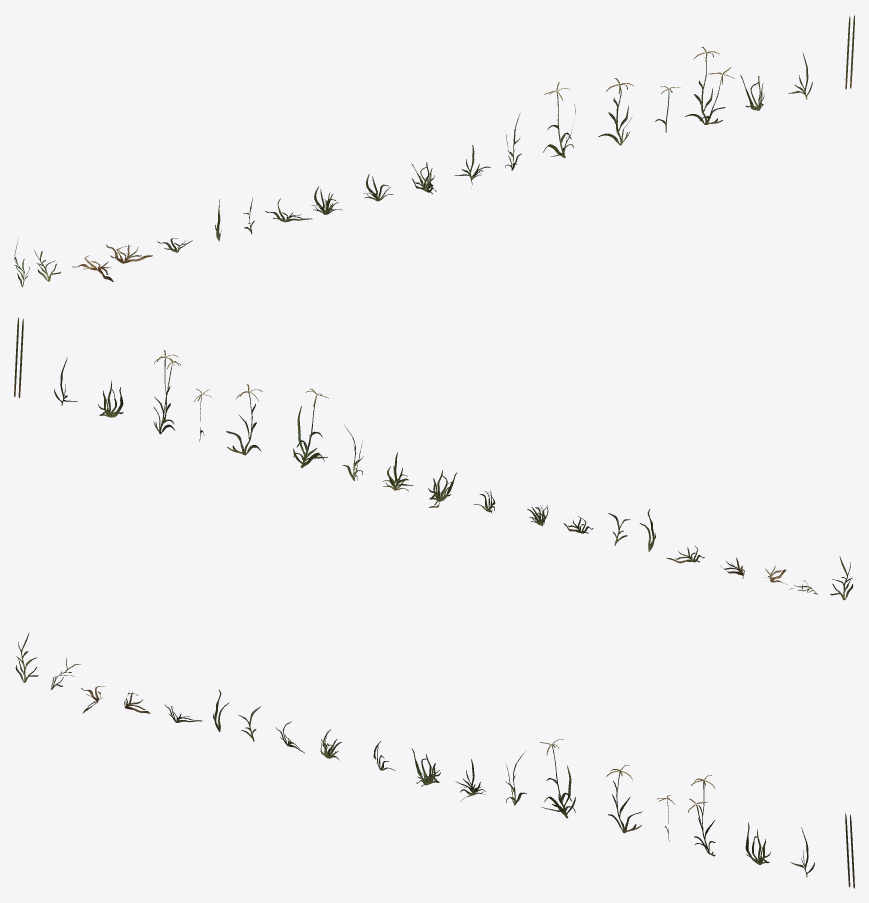
The model's file is grass_bermuda_01.glb.
The picture shows the model from 3 angles, top to bottom: view 1: azimuth 30°, elevation 25°; view 2: azimuth 150°, elevation 25°; view 3: azimuth 330°, elevation 25°; orthographic projection.
Visible parts, largest first — view 1: grass_bermuda_01_seedling_d; view 2: grass_bermuda_01_seedling_a; view 3: grass_bermuda_01_seedling_a.
Boxes of the visible parts, bbox=[...] form: grass_bermuda_01_seedling_d: bbox=[685, 47, 734, 124]; grass_bermuda_01_seedling_a: bbox=[293, 388, 328, 468]; grass_bermuda_01_seedling_a: bbox=[539, 739, 575, 818].
Bounding box in the file's own units: 1.69 × 0.1583 × 0.1422.
1 material, 1 textured.
